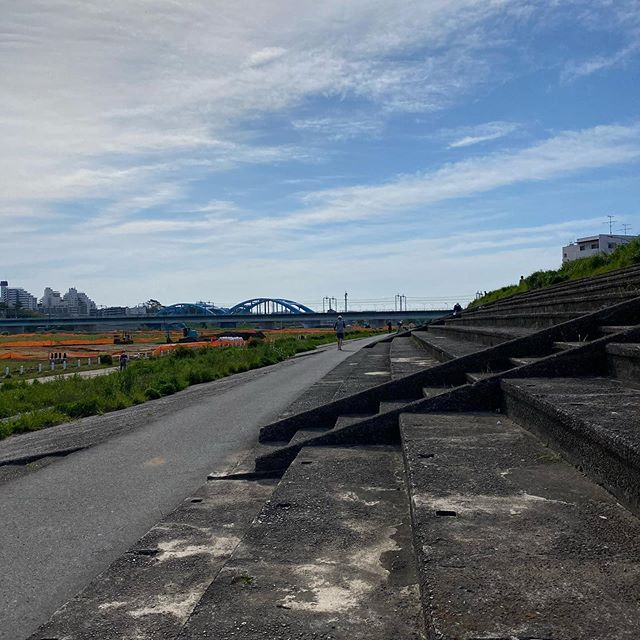bridge: (147, 273, 315, 340)
building: (555, 228, 640, 278), (65, 282, 97, 320), (1, 283, 34, 311), (39, 287, 71, 314)
sky: (5, 1, 640, 278)
